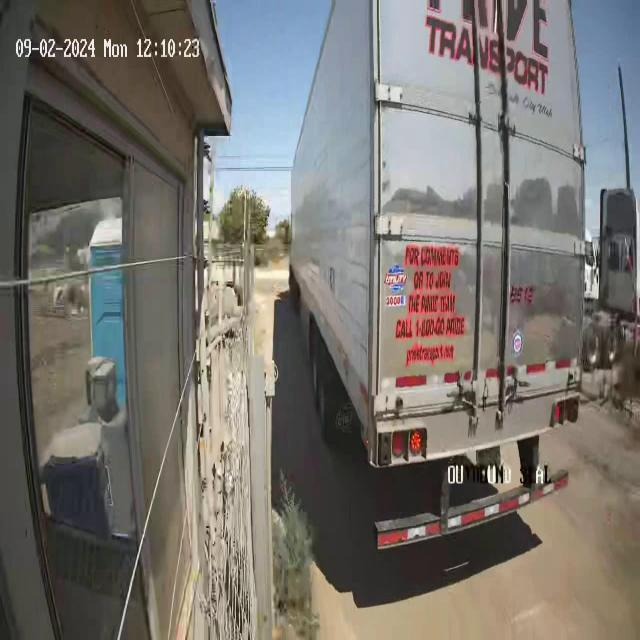TRUCK_OUT: (286, 0, 594, 547)
